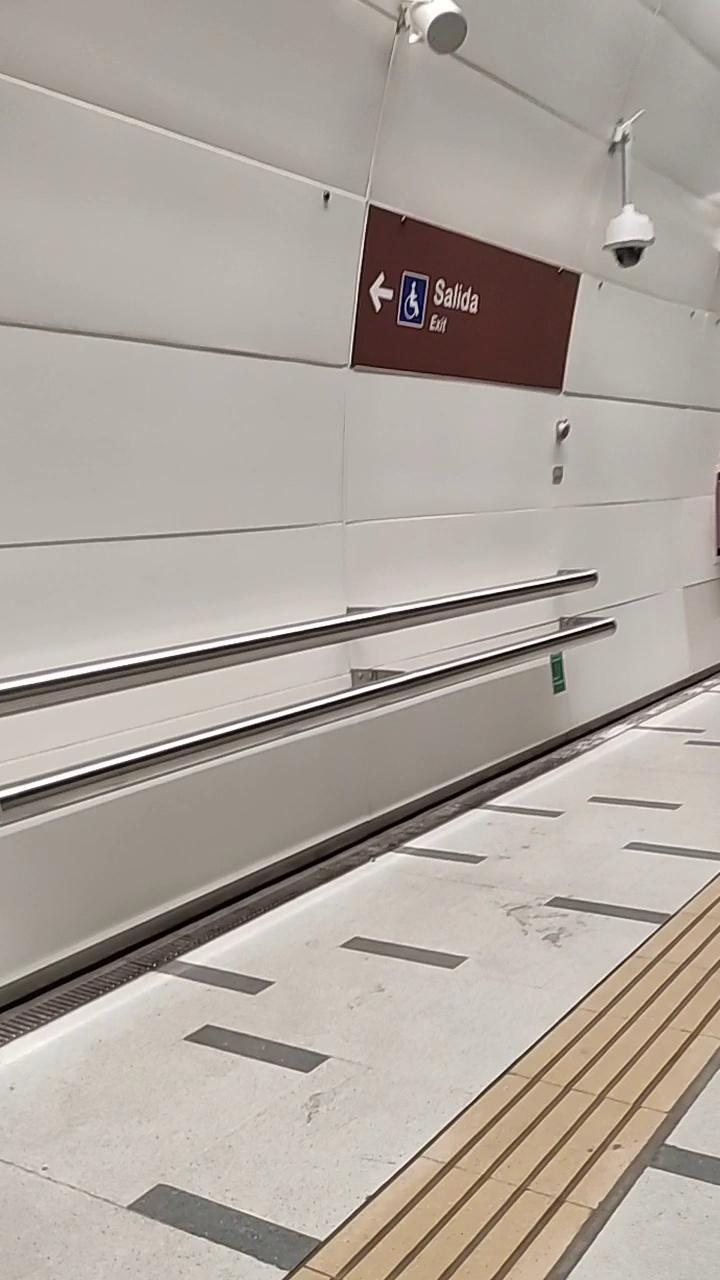handicapped symbol: (404, 280, 420, 320)
left arrow: (367, 270, 394, 314)
